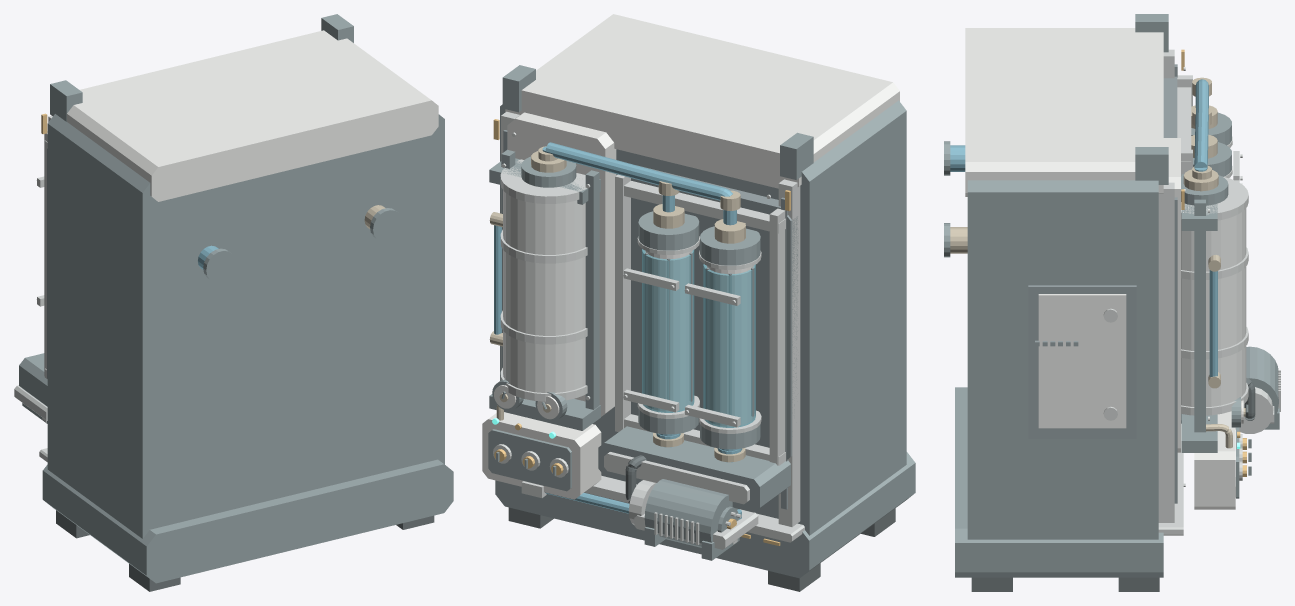
The model's file is water_reclaimer.glb.
The picture shows the model from 3 angles, left to right: view 1: azimuth 30°, elevation 25°; view 2: azimuth 150°, elevation 25°; view 3: azimuth 270°, elevation 25°; orthographic projection. The views are drawn at different scales.
Parts seen in each view (by area): view 1: static__frame, static__shell, static__trim, static__rubber; view 2: static__frame, static__shell, static__trim, static__darkblue, static__recess, filter_cartridge_A__fluid, filter_cartridge_B__fluid, filter_cartridge_B__filter, filter_cartridge_A__filter, static__pipe, filter_cartridge_A__frame, filter_cartridge_B__frame (+8 smaller); view 3: static__frame, static__shell, static__trim, access_hatch__shell, static__darkblue, access_hatch__recess, static__pipe, static__recess, static__copper, static__rubber, filter_cartridge_B__frame, filter_cartridge_A__frame.
Part boxes in pixels (x1,y1,x2,y2): static__frame: (19, 14, 453, 583); static__shell: (67, 30, 438, 201); static__trim: (14, 116, 52, 462); static__rubber: (56, 510, 434, 591); static__frame: (488, 65, 915, 578); static__shell: (482, 14, 899, 499); static__trim: (500, 111, 804, 549); static__darkblue: (503, 190, 585, 392); static__recess: (503, 130, 798, 509); filter_cartridge_A__fluid: (703, 264, 755, 427); filter_cartridge_B__fluid: (642, 249, 694, 412); filter_cartridge_B__filter: (645, 250, 692, 411); filter_cartridge_A__filter: (706, 265, 753, 426); static__pipe: (494, 142, 742, 519); filter_cartridge_A__frame: (700, 226, 760, 449); filter_cartridge_B__frame: (638, 211, 699, 434); static__frame: (944, 14, 1279, 577); static__shell: (965, 28, 1235, 509); static__trim: (1158, 49, 1280, 535); access_hatch__shell: (1038, 294, 1126, 428); static__darkblue: (1181, 208, 1246, 406); access_hatch__recess: (1028, 285, 1136, 438); static__pipe: (950, 79, 1217, 376); static__recess: (1035, 64, 1177, 503); static__copper: (950, 77, 1245, 448); static__rubber: (971, 378, 1255, 591); filter_cartridge_B__frame: (1193, 142, 1231, 176); filter_cartridge_A__frame: (1191, 112, 1231, 145).
Bounding box in the file's own units: 1.42 × 1.88 × 1.31.
